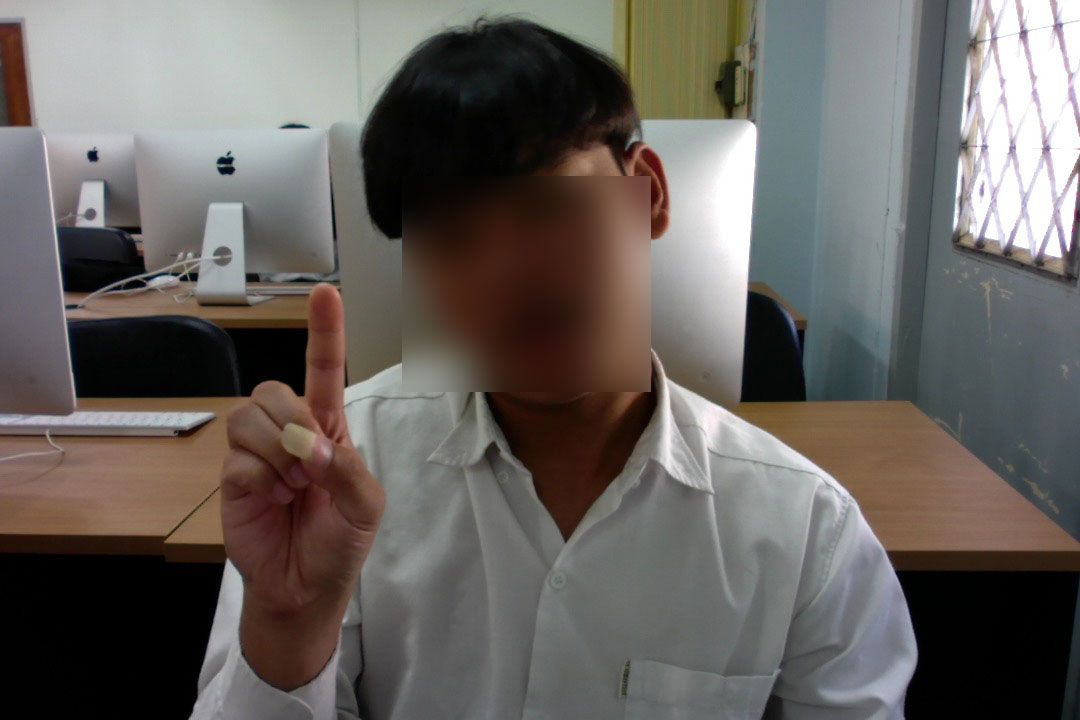dor: (213, 277, 387, 626)
